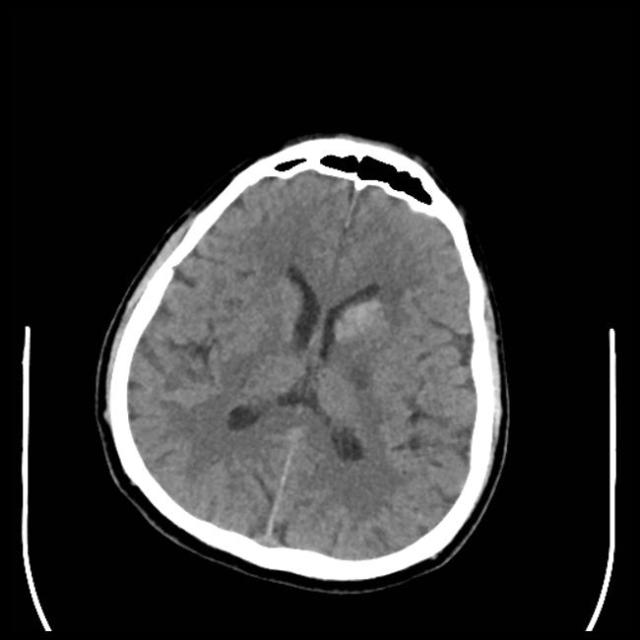lesion: (97, 132, 511, 584)
